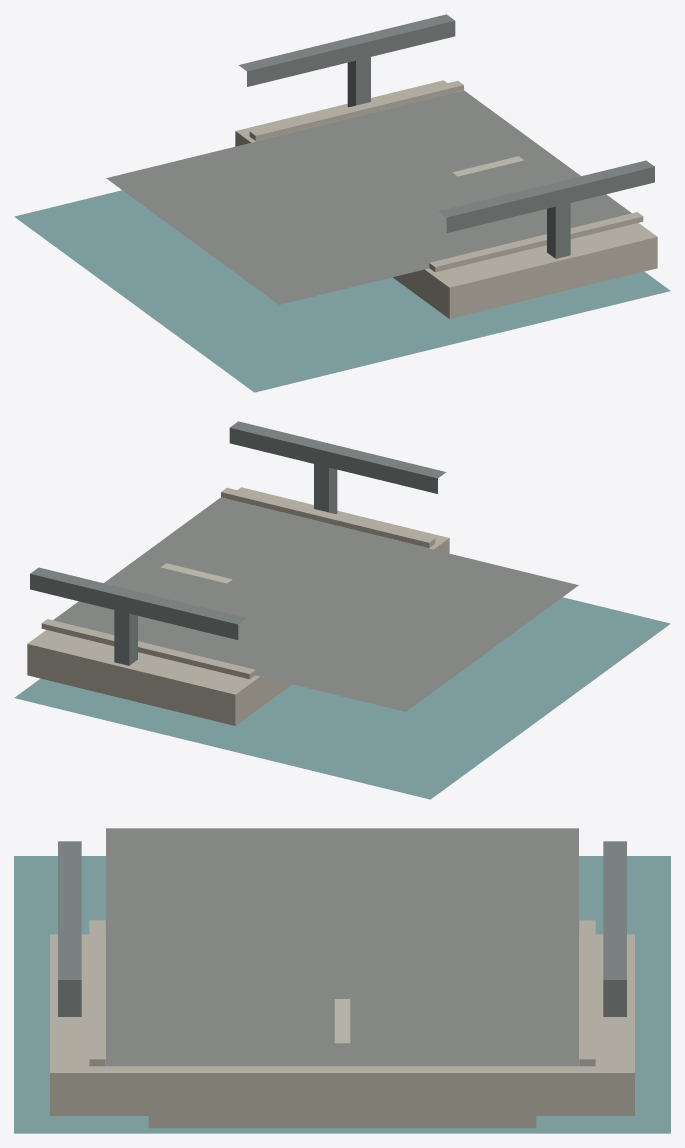
3 views of the same model, one above another, from view 1: azimuth 30°, elevation 25°; view 2: azimuth 150°, elevation 25°; view 3: azimuth 270°, elevation 25° (orthographic). The views are drawn at different scales.
Visible parts, largest first — view 1: Near; view 2: Near; view 3: Near.
Part boxes in pixels (x1,y1,x2,y2): Near: (14, 14, 670, 392); Near: (14, 421, 670, 799); Near: (14, 828, 670, 1133).
Bounding box in the file's own units: 1 × 0.258 × 1.
